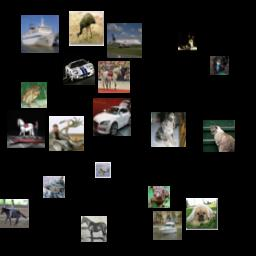airplane: (107, 23, 142, 58), (43, 176, 65, 198), (95, 162, 111, 178)
automobile: (93, 98, 131, 136), (63, 53, 95, 85)
bird: (69, 11, 104, 46), (210, 56, 229, 75)
cat: (203, 120, 235, 152), (178, 32, 197, 51)
deer: (49, 116, 84, 151)
dog: (151, 112, 186, 147), (186, 198, 218, 230)
frog: (21, 82, 47, 108), (148, 186, 170, 208)
ship: (21, 15, 59, 53), (153, 211, 182, 240)
